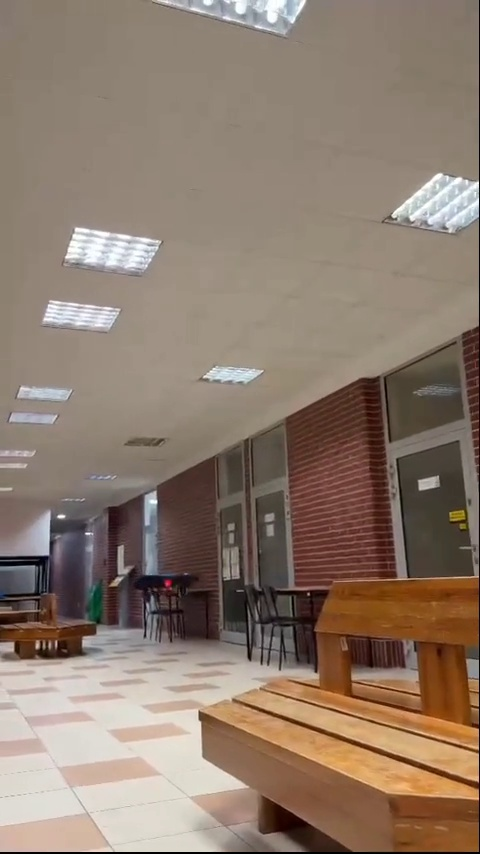drone: (136, 571, 200, 597)
